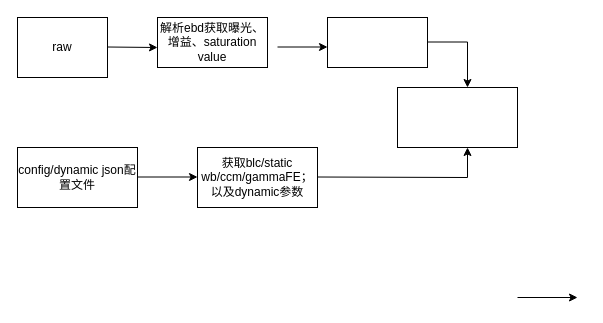
Image size: 603x323. Some labels were removed from this diagram. The centre of each missing label's shape, as x and y in pixels:
"ArmISP" belongs at point 457,117.
"计算iridix gain/ivariance" belongs at point 377,42.
